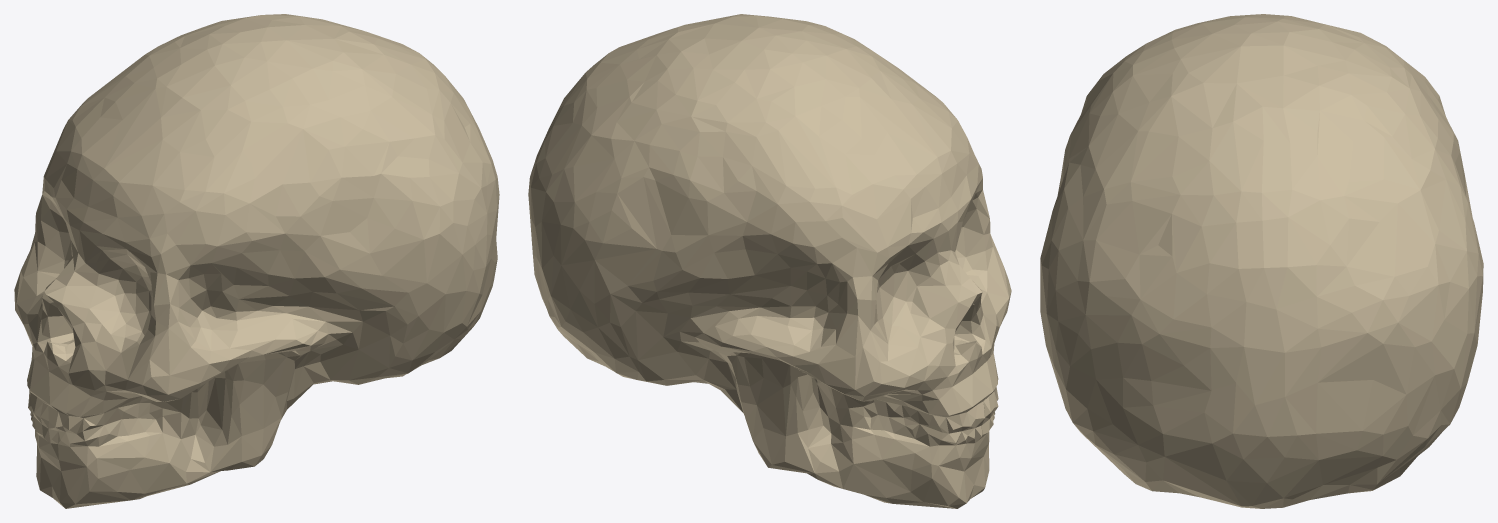
Rendered from skull_1.fbx.
The picture shows the model from 3 angles, left to right: view 1: azimuth 30°, elevation 25°; view 2: azimuth 150°, elevation 25°; view 3: azimuth 270°, elevation 25°; orthographic projection. The views are drawn at different scales.
Parts seen in each view (by area): view 1: Skull; view 2: Skull; view 3: Skull.
Boxes of the visible parts, x1=… form: Skull: x1=14, y1=14, x2=499, y2=508; Skull: x1=528, y1=14, x2=1011, y2=508; Skull: x1=1040, y1=14, x2=1483, y2=508.
Size of the model in its own units: 16.34 by 14.77 by 11.94.
